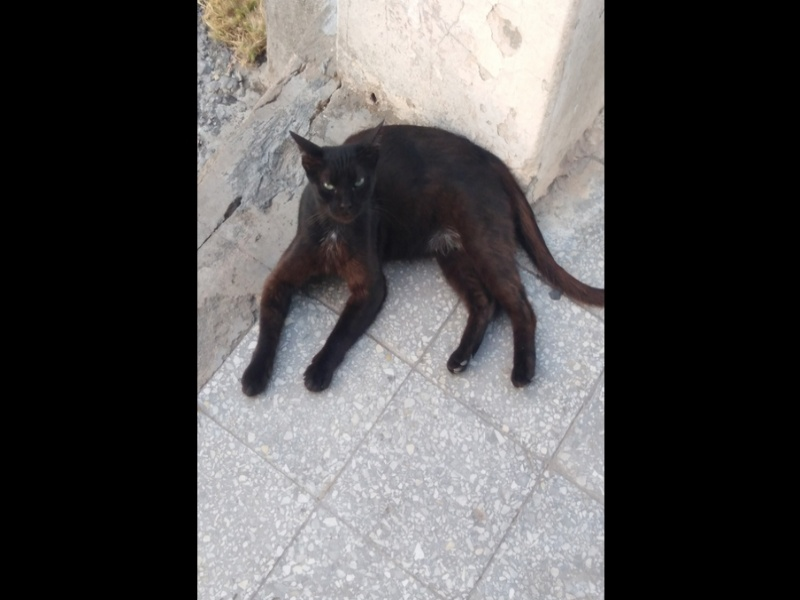cat: (242, 124, 597, 399)
